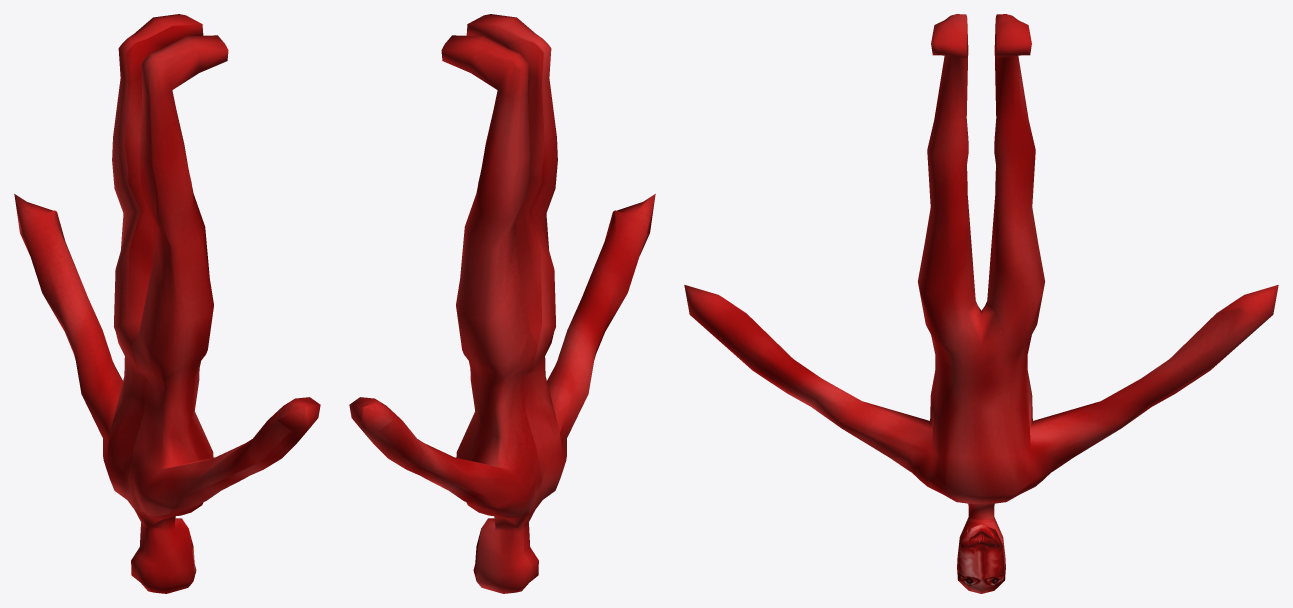
File: монстр 3.fbx
3 views of the same model, side by side, from view 1: azimuth 30°, elevation 25°; view 2: azimuth 150°, elevation 25°; view 3: azimuth 270°, elevation 25° (orthographic). The views are drawn at different scales.
Visible parts, largest first — view 1: Cube; view 2: Cube; view 3: Cube.
Part boxes in pixels (bbox=[...]): Cube: bbox=[14, 14, 320, 593]; Cube: bbox=[349, 14, 655, 593]; Cube: bbox=[684, 14, 1278, 593].
Bounding box in the file's own units: 82.05 × 507 × 479.
Materials: 2 (2 with a texture image).
